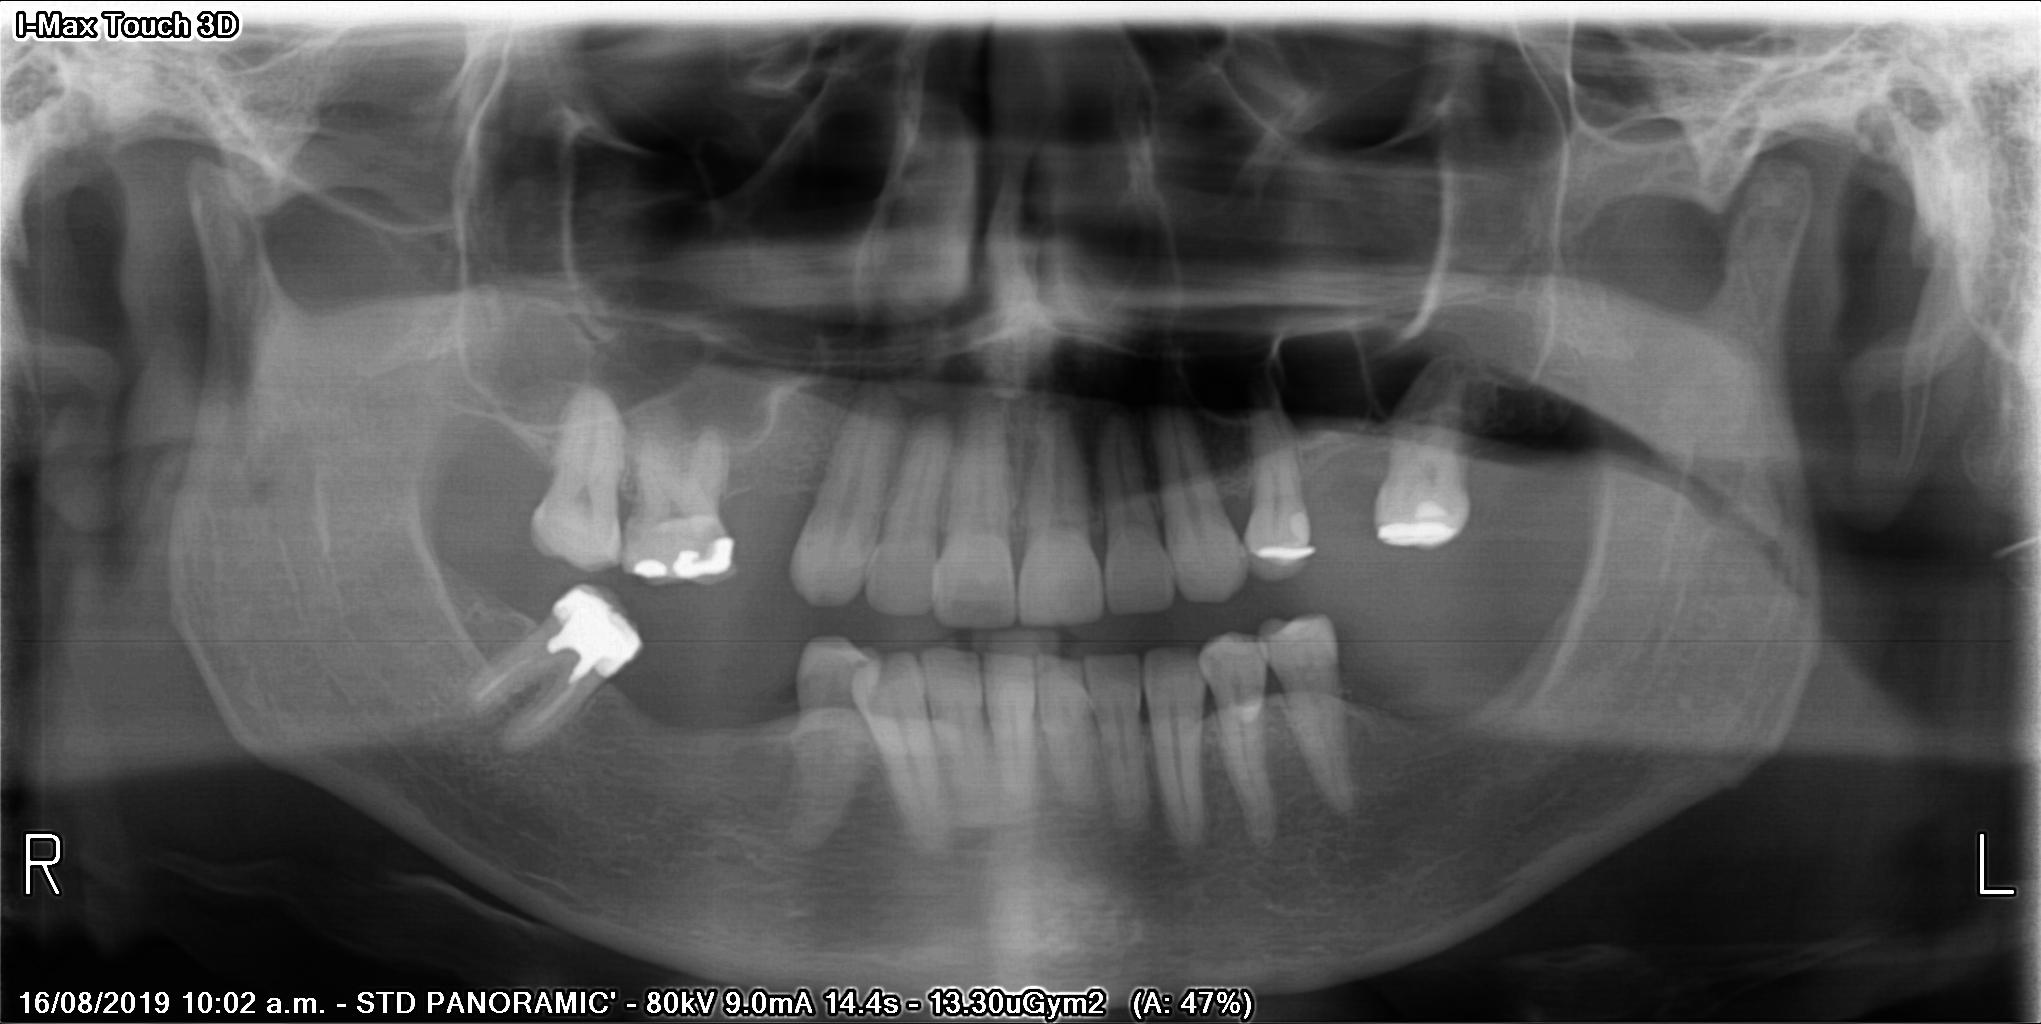Çürük: (531, 576, 642, 683), (1378, 500, 1463, 558), (682, 530, 743, 590), (1243, 539, 1318, 569), (629, 551, 675, 590)
